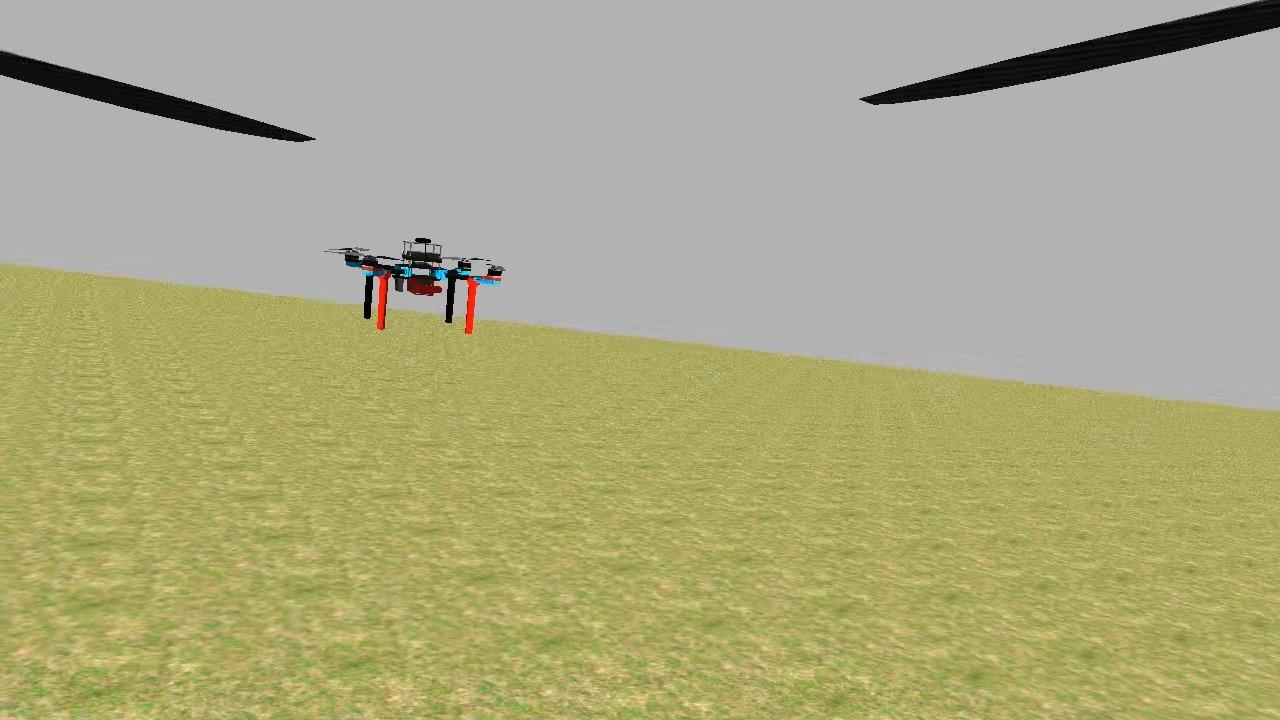UAV: (339, 233, 510, 338)
